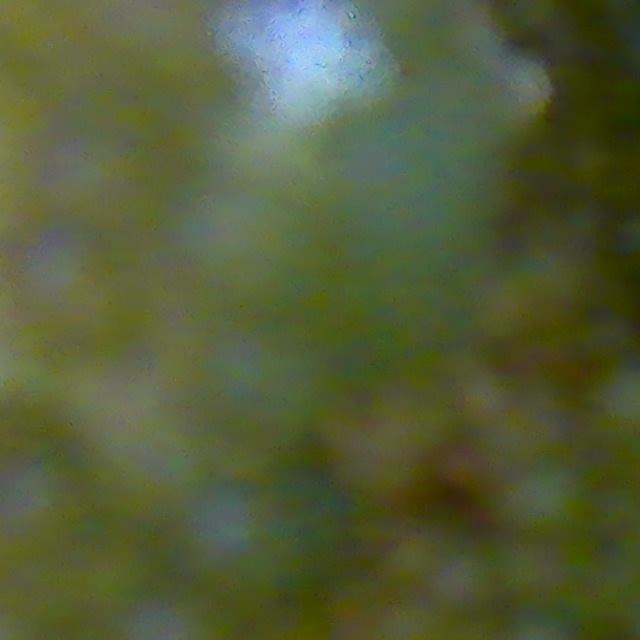SeaGrape: (5, 239, 136, 341), (190, 492, 305, 604), (46, 124, 171, 221), (0, 460, 88, 559), (501, 459, 590, 540)
